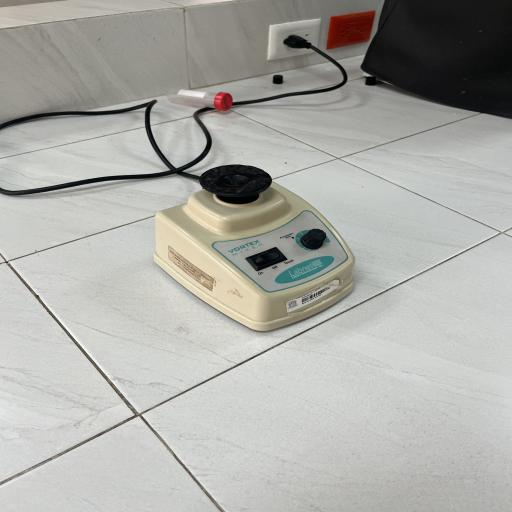Vortex_Mixer_LabNet: (128, 151, 376, 343)
